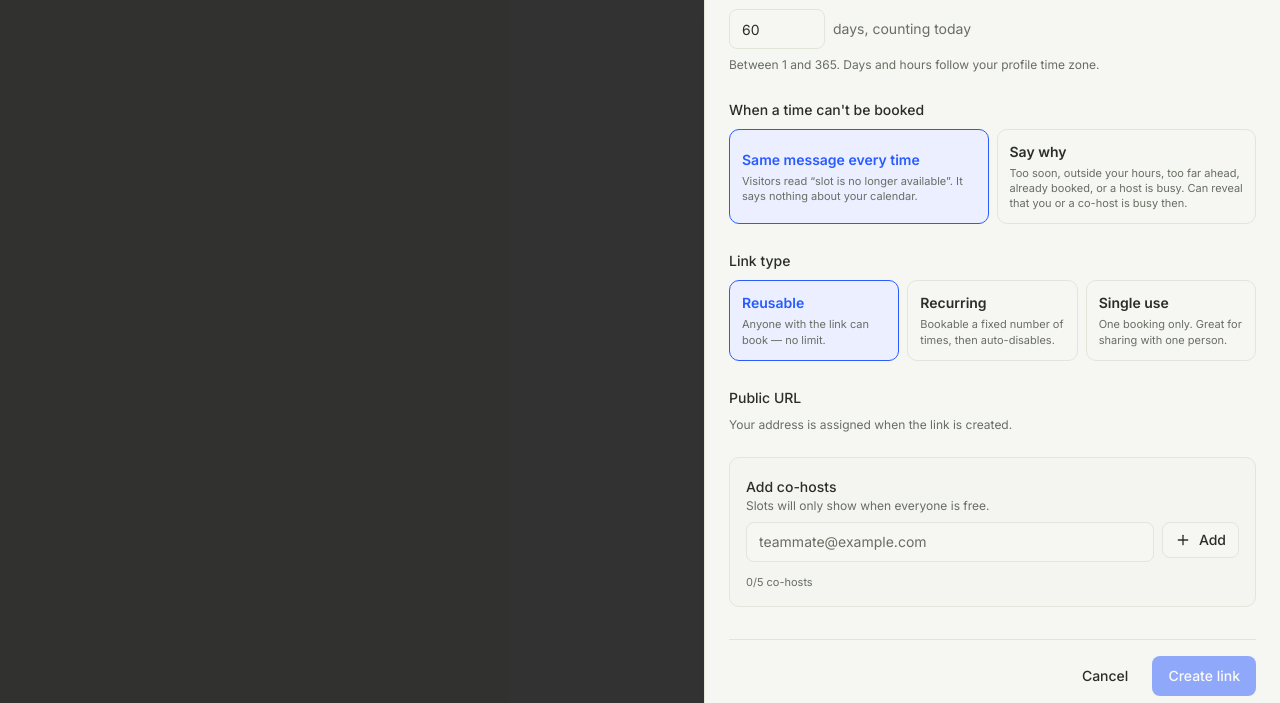
Test: LinkEditDrawer co-host chips (PAC-41) › AC-8: a co-host whose status is unknown shows the unknown state
(page scrolled)
Type "eve@co.com" into the field with placeholder "teammate@example.com" at [950, 542], box left=746, top=522, right=1154, bottom=562
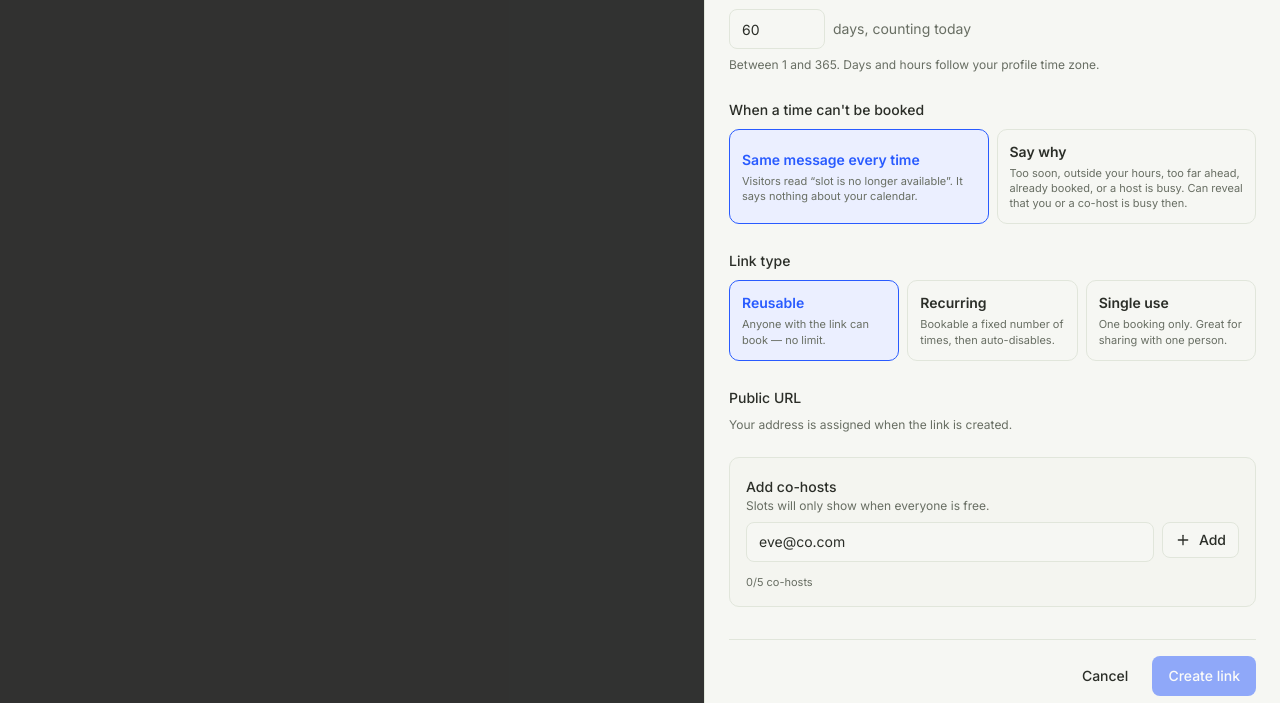
Click the button "Add" at [1200, 540], box left=1162, top=522, right=1239, bottom=558
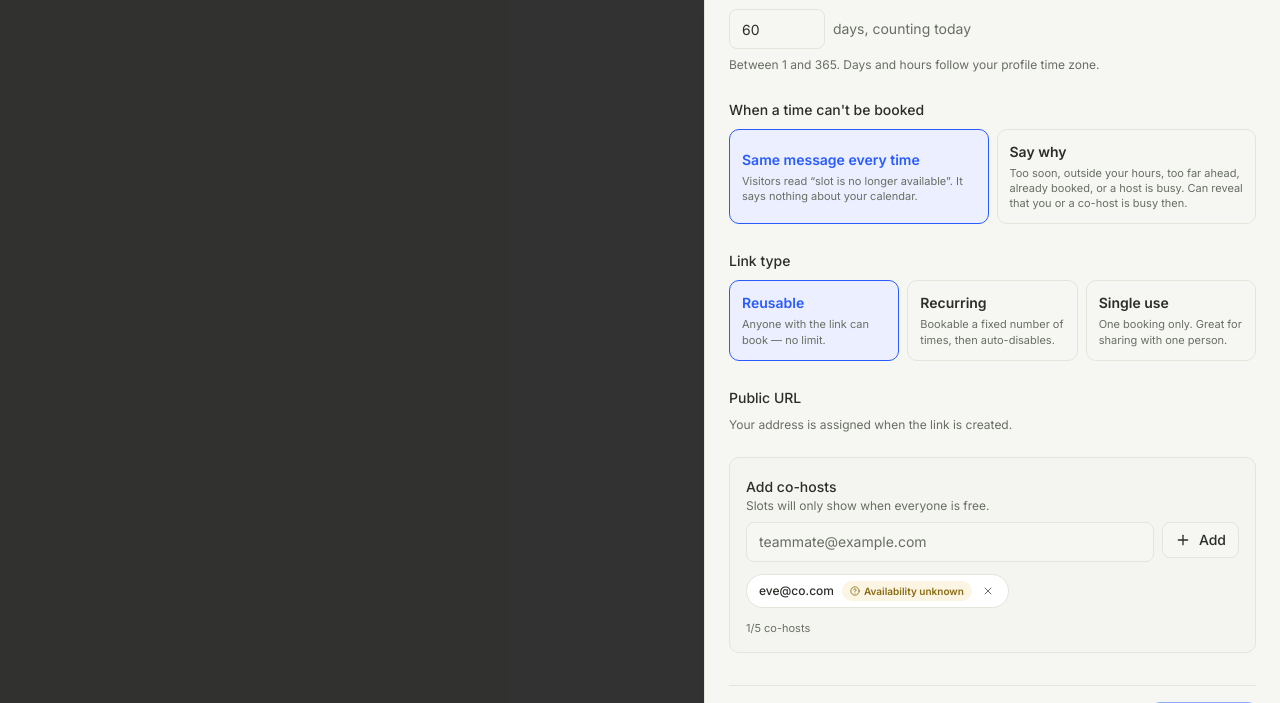
Expected: the text "Availability unknown" is shown, left=842, top=581, right=972, bottom=601
